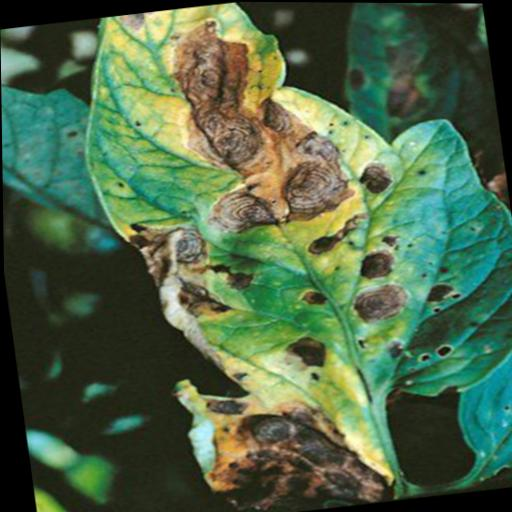Early Blight: (63, 0, 512, 512)
